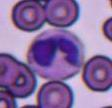N: (28, 29, 85, 79)
